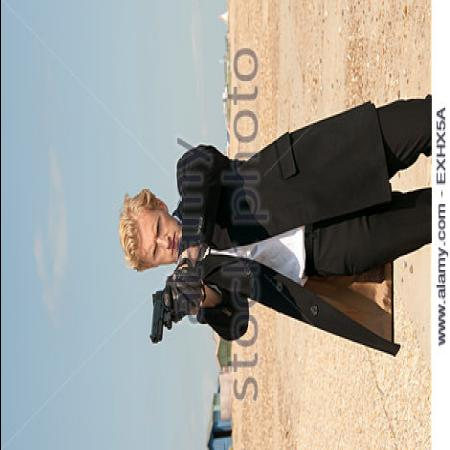Pistol: (147, 286, 174, 346)
